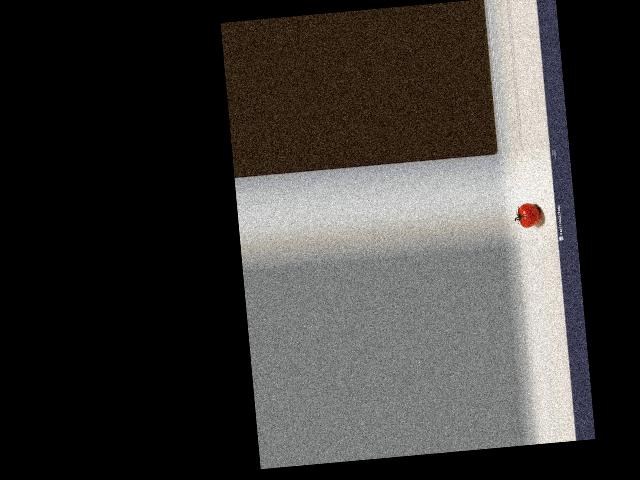tomato: (517, 202, 541, 227)
